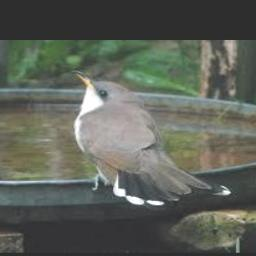Cuckoo: (68, 70, 231, 205)
